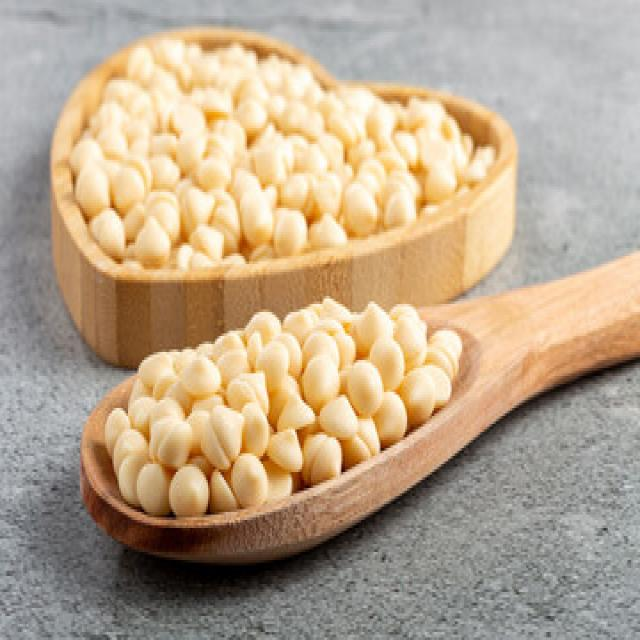Chocolate: (67, 28, 498, 276), (108, 289, 472, 524)
